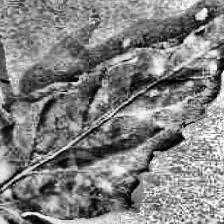leaf mold: (0, 0, 224, 217)
